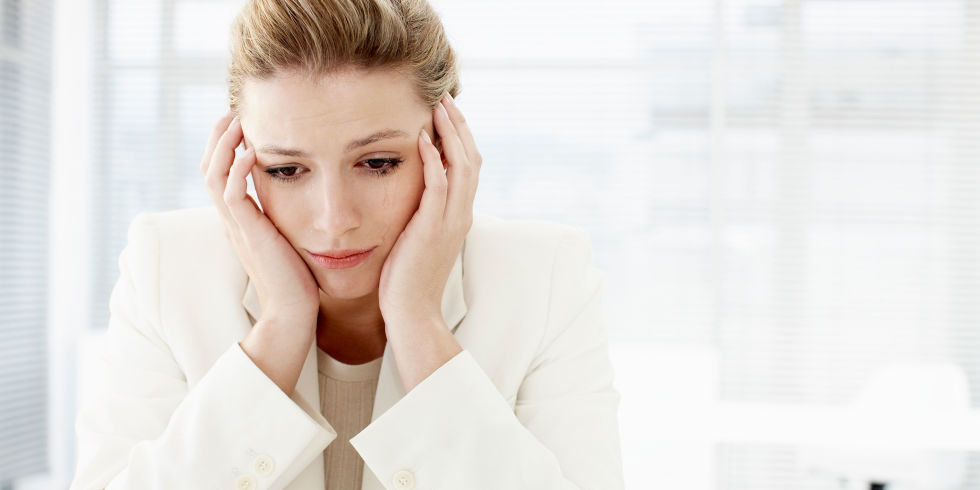sad: (204, 74, 446, 308)
